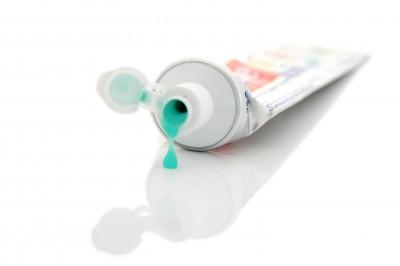toothpaste: (95, 26, 368, 154)
